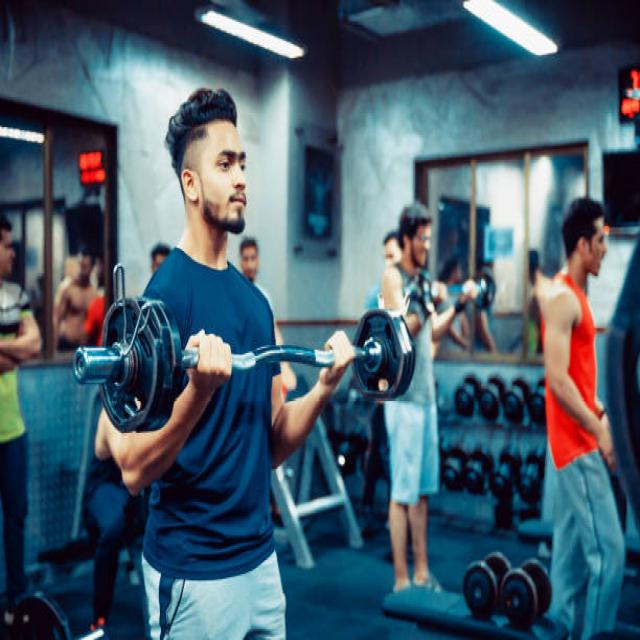no_helmet: (158, 158, 269, 239), (546, 232, 596, 282), (392, 234, 431, 281)
